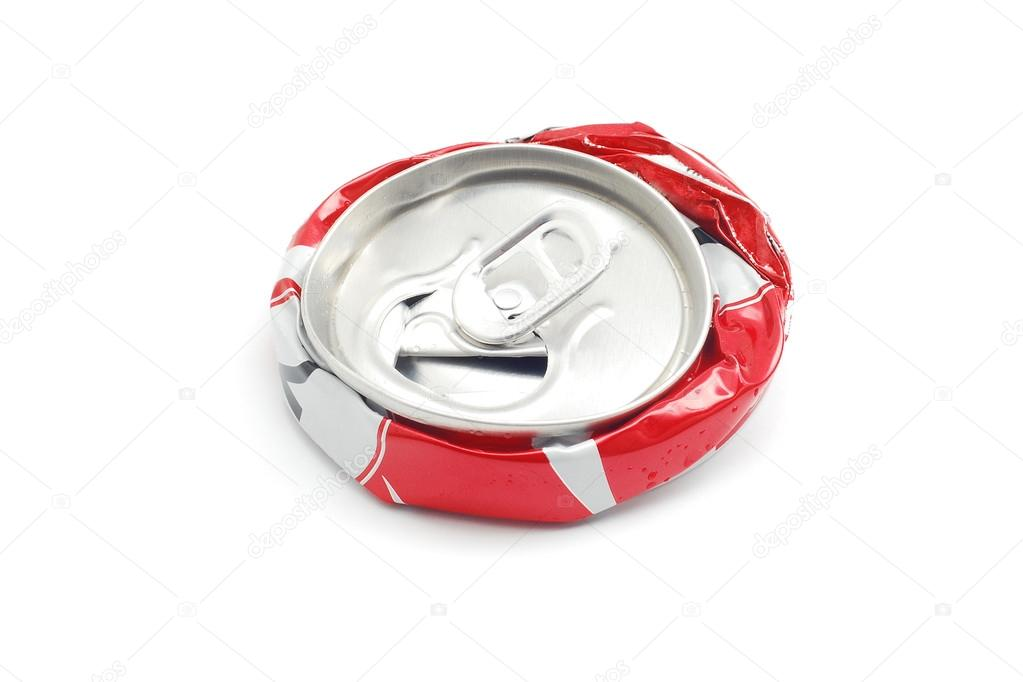can: (268, 116, 796, 528)
